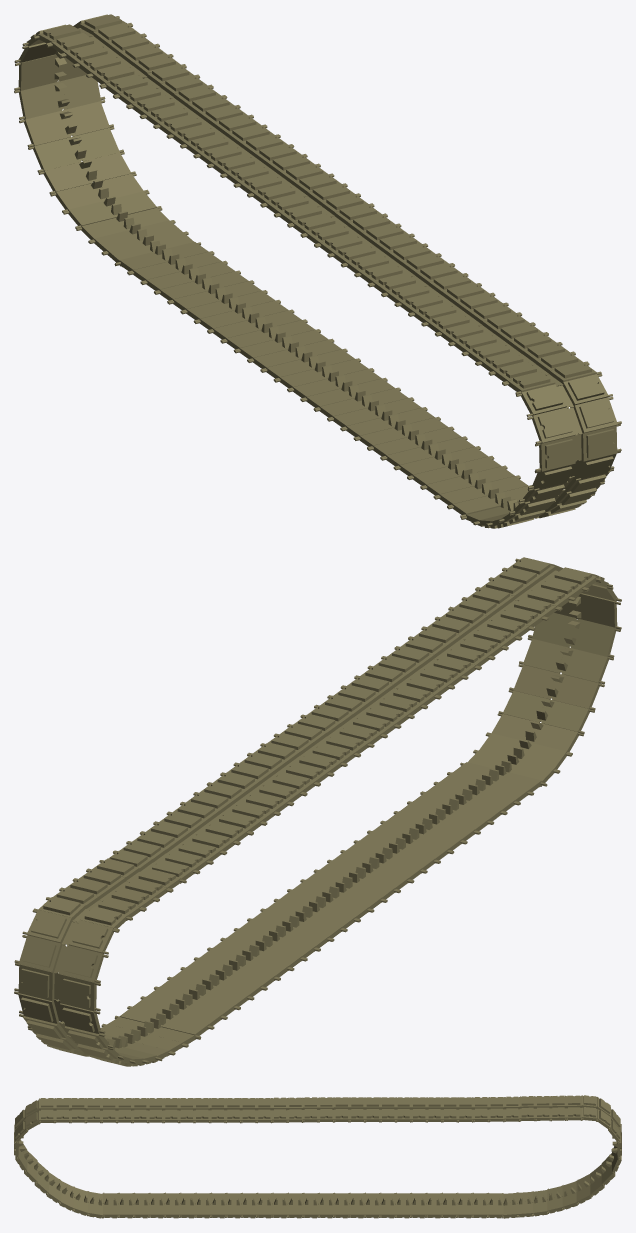
Rendered from caterpillar.fbx.
3 views of the same model, one above another, from view 1: azimuth 30°, elevation 25°; view 2: azimuth 150°, elevation 25°; view 3: azimuth 270°, elevation 25° (orthographic). The views are drawn at different scales.
Visible parts, largest first — view 1: Box288, Box331, Box330, Box289, Box329, Box287, Box328, Box327, Box326, Box332, Box290, Box286 (+66 smaller); view 2: Box333, Box290, Box332, Box292, Box291, Box334, Box293, Box294, Box331, Box295, Box335, Box289 (+66 smaller); view 3: Box312, Box322, Box339, Box282, Box278, Box280, Box347, Box341, Box285, Box343, Box336, Box269 (+70 smaller).
Boxes of the visible parts, x1,y1,x2,y2 form: Box288: (527, 396, 621, 444); Box331: (14, 75, 105, 119); Box330: (19, 100, 113, 147); Box289: (535, 424, 621, 471); Box329: (28, 127, 123, 172); Box287: (516, 374, 612, 416); Box328: (38, 152, 135, 194); Box327: (50, 173, 148, 212); Box326: (63, 191, 161, 228); Box332: (14, 54, 87, 90); Box290: (528, 451, 620, 489); Box286: (503, 361, 601, 394); Box333: (14, 935, 108, 983); Box290: (528, 613, 620, 657); Box332: (14, 963, 100, 1011); Box292: (509, 664, 604, 710); Box291: (519, 637, 613, 684); Box334: (22, 909, 118, 954); Box293: (498, 690, 594, 733); Box294: (486, 713, 583, 755); Box331: (14, 991, 105, 1033); Box295: (474, 733, 571, 772); Box335: (33, 896, 131, 931); Box289: (554, 593, 621, 629); Box312: (333, 1192, 349, 1218); Box322: (487, 1192, 503, 1218); Box339: (519, 1096, 535, 1121); Box282: (101, 1098, 117, 1123); Box278: (163, 1098, 179, 1123); Box280: (132, 1098, 148, 1123); Box347: (457, 1097, 473, 1122); Box341: (364, 1097, 380, 1122); Box285: (54, 1098, 70, 1123); Box343: (395, 1097, 411, 1122); Box336: (566, 1095, 582, 1120); Box269: (303, 1097, 318, 1122).
Size of the model in its own units: 606 by 1228 by 6499.
